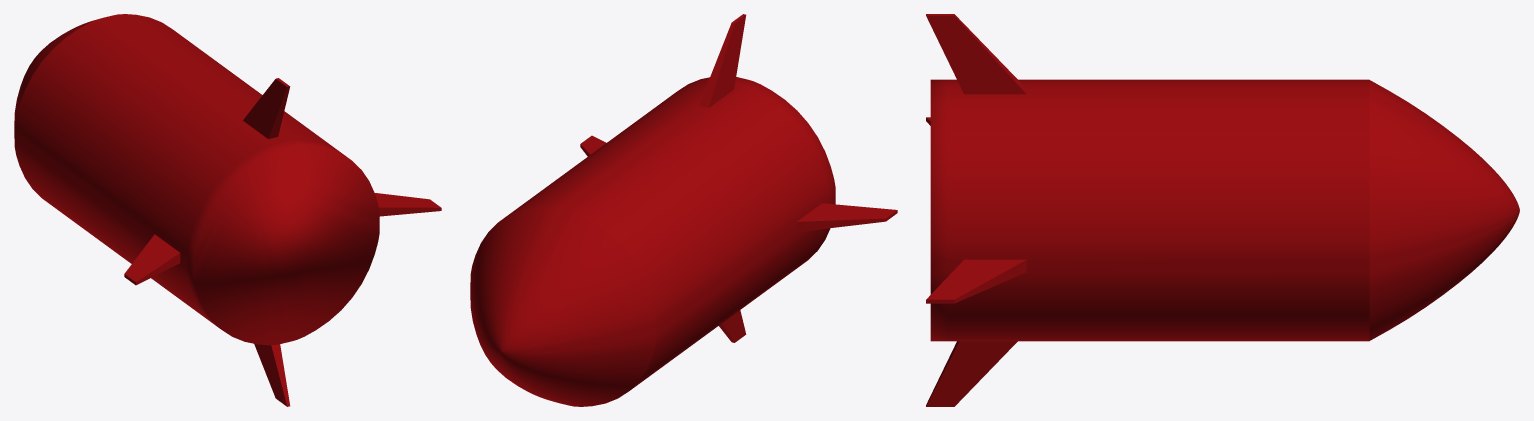
3 renders of one model, left to right at view 1: azimuth 30°, elevation 25°; view 2: azimuth 150°, elevation 25°; view 3: azimuth 270°, elevation 25°, orthographic. The views are drawn at different scales.
Visible parts, largest first — view 1: Cylinder; view 2: Cylinder; view 3: Cylinder.
Part boxes in pixels (box(x1,y1,x2,y2)): Cylinder: box(14, 14, 441, 406); Cylinder: box(470, 14, 897, 406); Cylinder: box(926, 14, 1519, 406).
Bounding box in the file's own units: 81.19 × 81.19 × 112.
